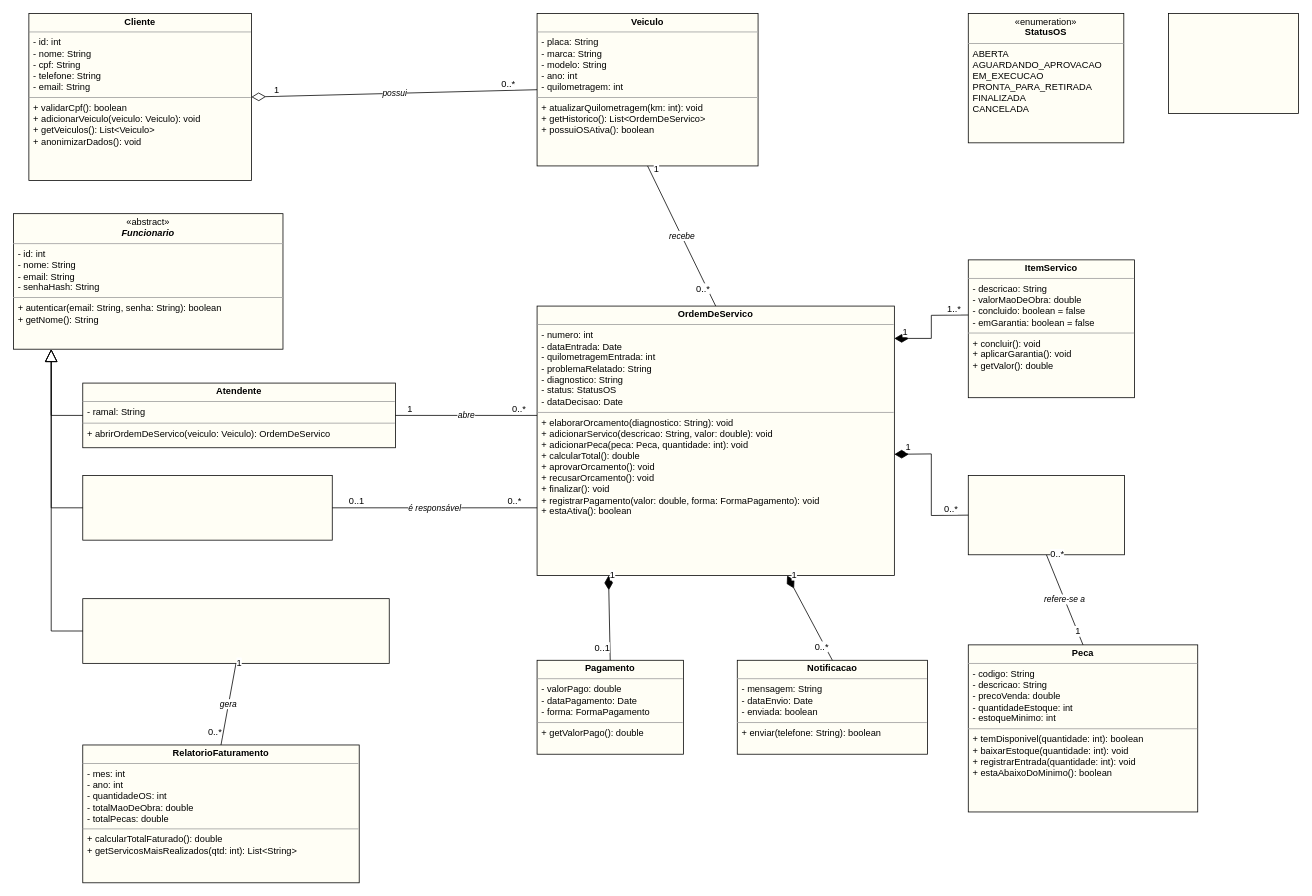
Some shapes in this 1312 by 896 pixel diagram are drawn without their labels. The shapes that lost their labels are listed below. From the top down, each one's centre as x and y in pixels, then its label:
At point (1233, 63): "«enumeration» FormaPagamento DINHEIRO PIX CARTAO_DEBITO CARTAO_CREDITO".
At point (207, 507): "Mecanico - especialidade: String + getFilaDeServicos(): List<OrdemDeServico>".
At point (1046, 515): "ItemPeca - quantidade: int - precoUnitario: double + calcularSubtotal(): double".
At point (235, 630): "Gerente + gerarRelatorio(mes: int, ano: int): RelatorioFaturamento".
